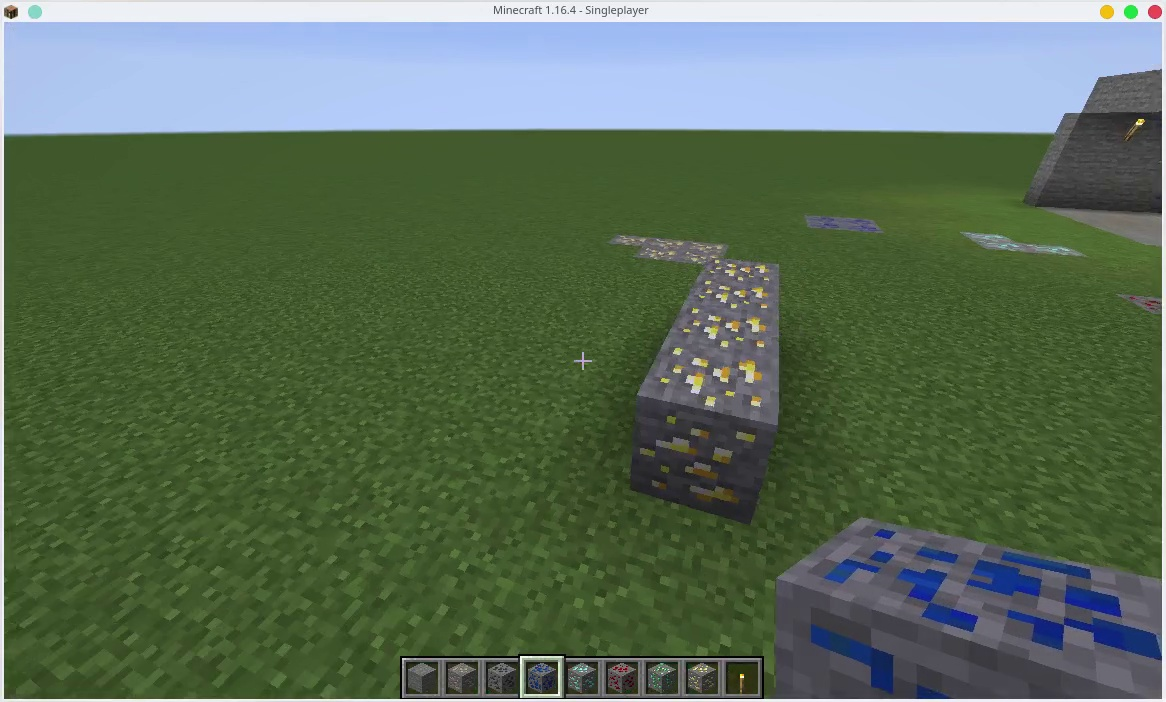gold: (638, 351, 772, 524), (671, 311, 780, 345), (694, 281, 772, 306), (703, 260, 768, 283), (638, 236, 704, 258), (689, 663, 715, 695)
